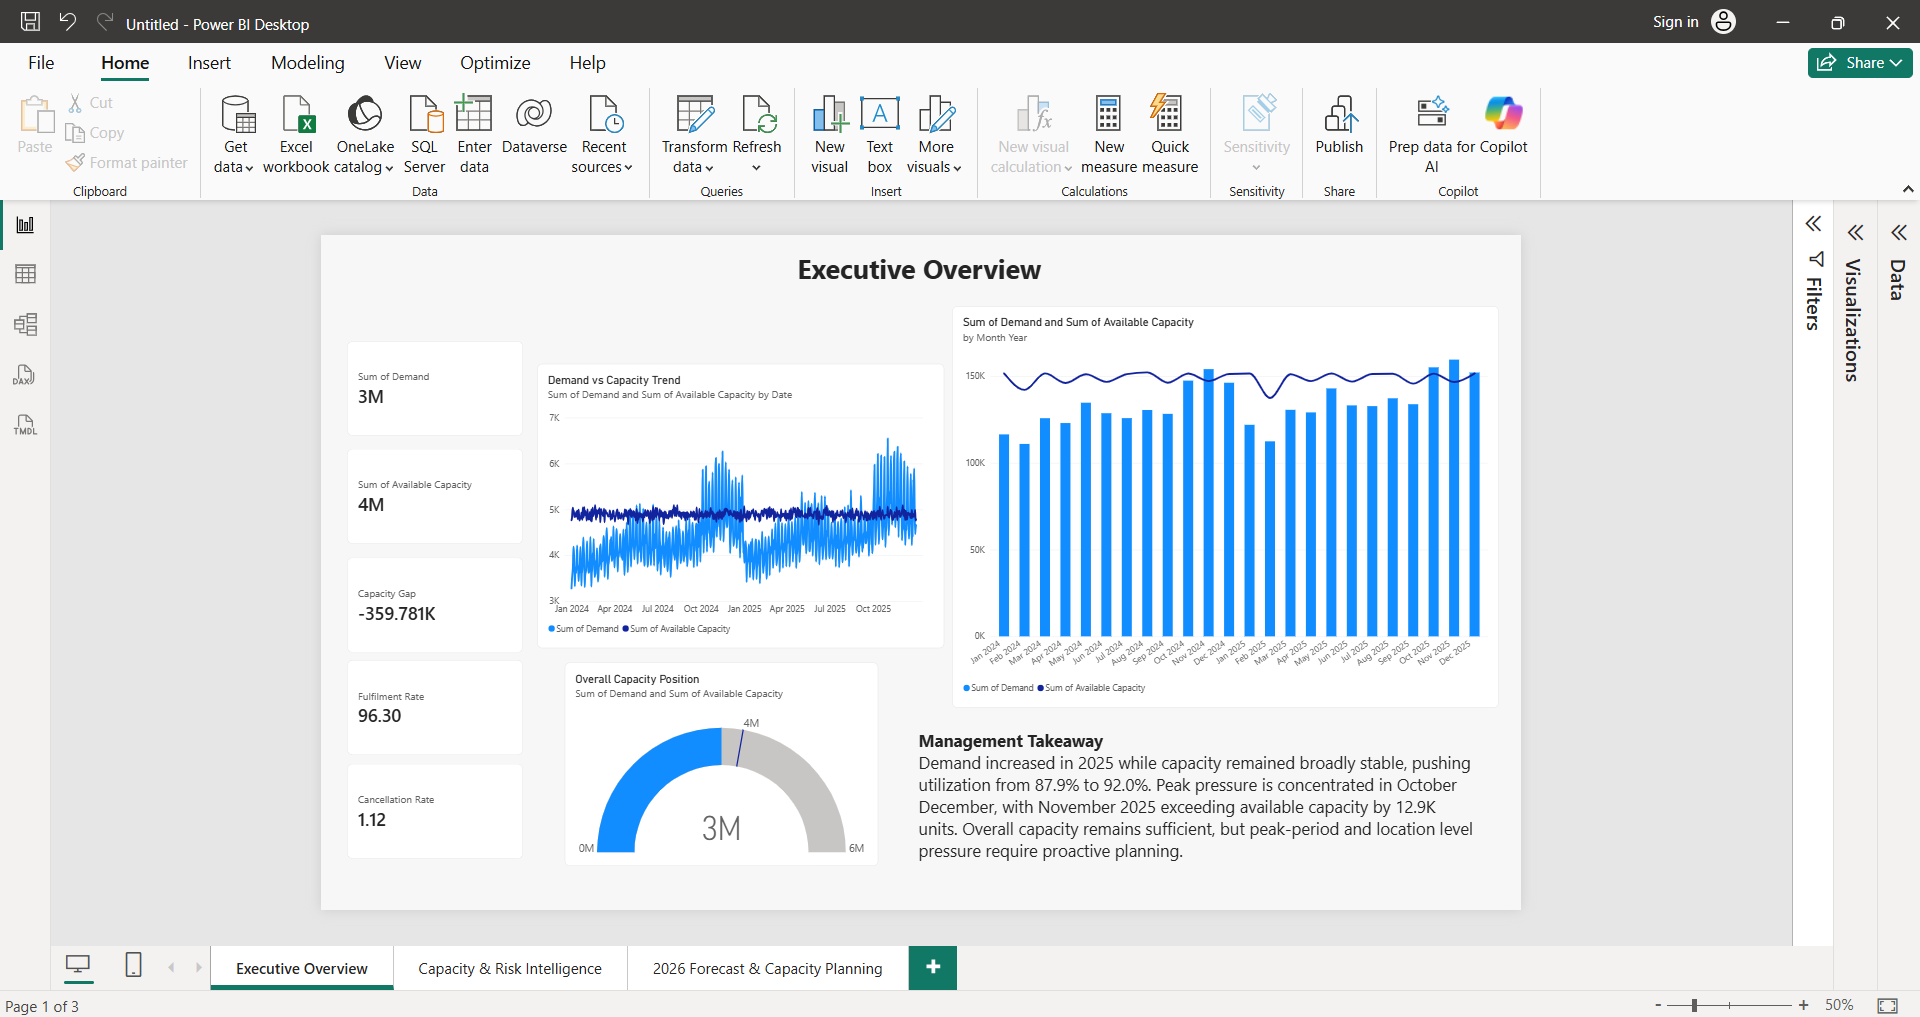

The page's visual inventory and layout, read from the dashboard file:
{"tool":"powerbi","page":{"name":"Executive Overview","canvas":[1920,1080],"ordinal":0},"visuals":[{"type":"cardVisual","fields":{"Data":["Sum((Operations).Demand)"]},"box":[42,170,281,151.7],"z":0},{"type":"cardVisual","fields":{"Data":["Sum((Operations).Available Capacity)"]},"box":[42,342,281,152],"z":1000},{"type":"cardVisual","fields":{"Data":["Calendar.Capacity Gap"]},"box":[42,516,281,152],"z":2000},{"type":"cardVisual","fields":{"Data":["Calendar.Fulfilment Rate"]},"box":[42,680,281,152],"z":3000},{"type":"cardVisual","fields":{"Data":["Calendar.Cancellation Rate"]},"box":[42,846,281,152],"z":4000},{"type":"lineChart","title":"Demand vs Capacity Trend","fields":{"Category":["Operations.Date"],"Y":["Sum(Operations.Demand)","Sum(Operations.Available Capacity)"]},"box":[346,206,651.3,455],"z":5000},{"type":"gauge","title":"Overall Capacity Position","fields":{"Y":["Sum(Operations.Demand)"],"TargetValue":["Sum(Operations.Available Capacity)"]},"box":[390,684,501.9,325.7],"z":6000},{"type":"lineClusteredColumnComboChart","fields":{"Y":["Sum(Operations.Demand)"],"Y2":["Sum(Operations.Available Capacity)"],"Category":["Operations.Month Year"]},"box":[1010.4,113.8,874.4,642.4],"z":7000},{"type":"textbox","box":[390,24,1134,68],"z":8000},{"type":"textbox","box":[956.9,789.6,894.4,263.2],"z":9000}]}

Visuals, with their boxes on the page's 1920x1080 design canvas (x1, y1, x2, y2). These are canvas units, not pixel positions in the 1920x1017 screenshot, which may show the page scaled, cropped or inside an application window:
cardVisual - Sum((Operations).Demand): (42,170,323,322)
cardVisual - Sum((Operations).Available Capacity): (42,342,323,494)
cardVisual - Calendar.Capacity Gap: (42,516,323,668)
cardVisual - Calendar.Fulfilment Rate: (42,680,323,832)
cardVisual - Calendar.Cancellation Rate: (42,846,323,998)
"Demand vs Capacity Trend" lineChart: (346,206,997,661)
"Overall Capacity Position" gauge: (390,684,892,1010)
lineClusteredColumnComboChart - Sum(Operations.Demand) x Sum(Operations.Available Capacity): (1010,114,1885,756)
textbox: (390,24,1524,92)
textbox: (957,790,1851,1053)
